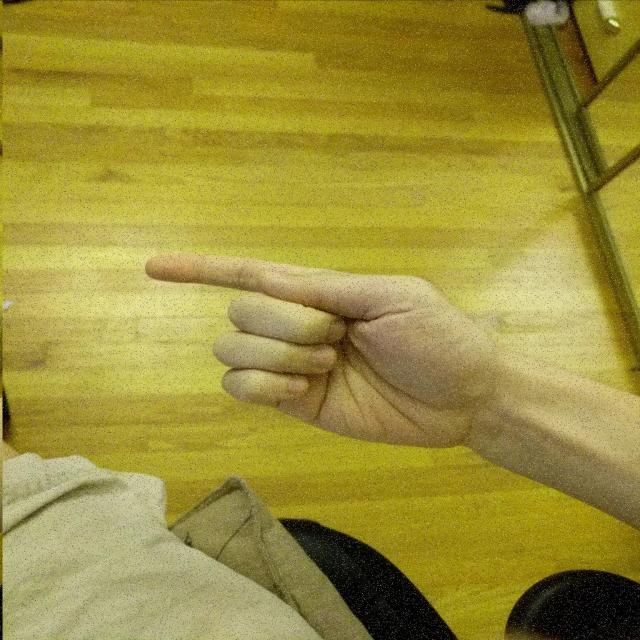G: (138, 247, 504, 455)
